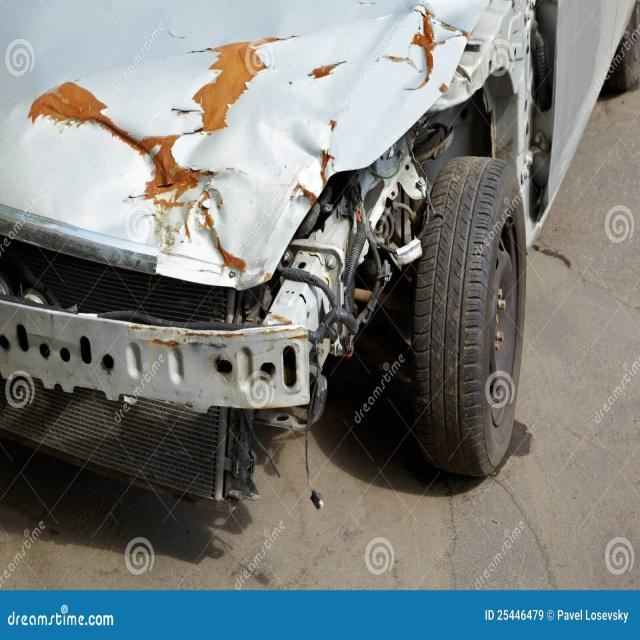crush: (0, 0, 558, 509)
